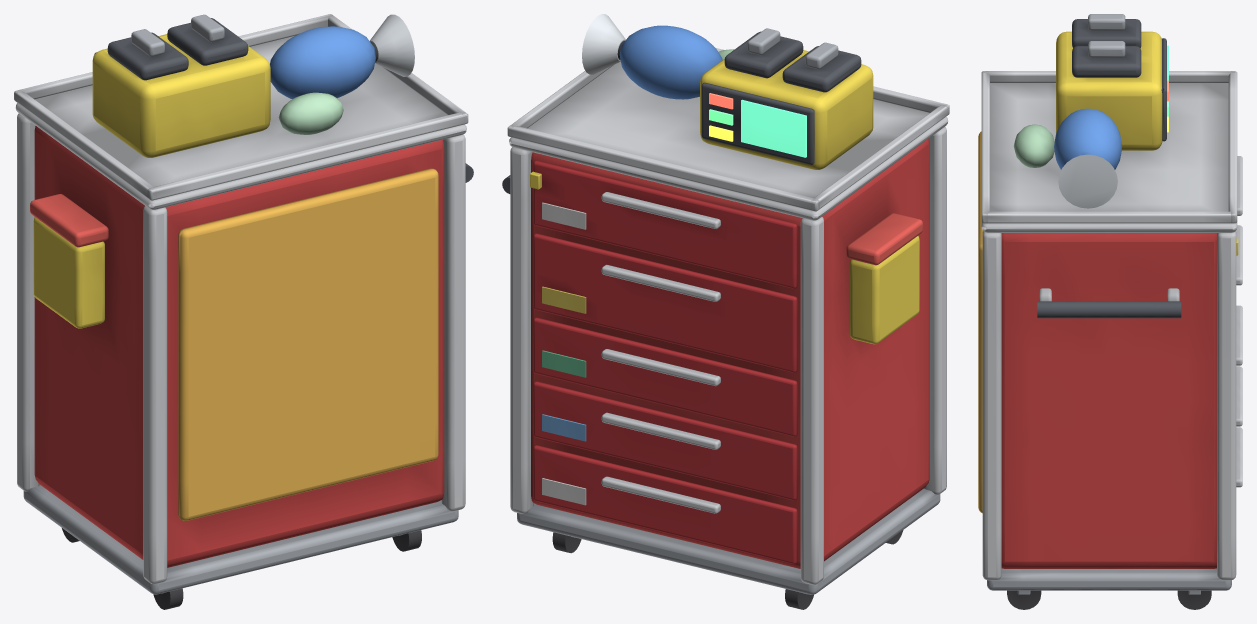
Rendered from crash_cart.glb.
The picture shows the model from 3 angles, left to right: view 1: azimuth 30°, elevation 25°; view 2: azimuth 150°, elevation 25°; view 3: azimuth 270°, elevation 25°; orthographic projection. The views are drawn at different scales.
Visible parts, largest first — view 1: cpr_board, body, tray, defib, chassis, corner_-15_11, corner_15_11, corner_-15_-11, bvm_bag, sharps, lip_-16_11.2, sharps_lid (+9 smaller); view 2: body, tray, drawer_3, drawer_4, drawer_0, drawer_1, drawer_2, chassis, corner_-15_-11, corner_15_-11, defib, corner_-15_11 (+24 smaller); view 3: body, tray, defib, corner_15_11, corner_15_-11, chassis, lip_15.2_-12, bvm_bag, push_bar, bvm_mask, paddle_-3.5, cpr_board (+14 smaller).
Boxes of the visible parts, x1=… form: cpr_board: x1=178, y1=168, x2=438, y2=520; body: x1=34, y1=126, x2=444, y2=567; tray: x1=15, y1=36, x2=466, y2=209; defib: x1=92, y1=34, x2=270, y2=157; chassis: x1=23, y1=485, x2=458, y2=594; corner_-15_11: x1=143, y1=206, x2=167, y2=584; corner_15_11: x1=441, y1=134, x2=465, y2=511; corner_-15_-11: x1=17, y1=113, x2=39, y2=491; bvm_bag: x1=270, y1=26, x2=376, y2=98; sharps: x1=33, y1=217, x2=104, y2=328; lip_-16_11.2: x1=147, y1=111, x2=468, y2=200; sharps_lid: x1=30, y1=194, x2=108, y2=247; body: x1=531, y1=138, x2=929, y2=568; tray: x1=509, y1=61, x2=948, y2=220; drawer_3: x1=533, y1=233, x2=797, y2=372; drawer_4: x1=533, y1=160, x2=797, y2=288; drawer_0: x1=533, y1=445, x2=797, y2=564; drawer_1: x1=533, y1=381, x2=797, y2=500; drawer_2: x1=533, y1=317, x2=797, y2=436; chassis: x1=517, y1=488, x2=940, y2=594; corner_-15_-11: x1=800, y1=217, x2=823, y2=584; corner_15_-11: x1=510, y1=147, x2=533, y2=513; defib: x1=700, y1=50, x2=873, y2=169; corner_-15_11: x1=924, y1=127, x2=946, y2=494; body: x1=1001, y1=233, x2=1216, y2=568; tray: x1=981, y1=83, x2=1237, y2=232; defib: x1=1056, y1=31, x2=1162, y2=150; corner_15_11: x1=982, y1=231, x2=1001, y2=580; corner_15_-11: x1=1217, y1=231, x2=1236, y2=580; chassis: x1=987, y1=568, x2=1231, y2=590; lip_15.2_-12: x1=983, y1=211, x2=1235, y2=223; bvm_bag: x1=1054, y1=108, x2=1121, y2=169; push_bar: x1=1037, y1=301, x2=1181, y2=318; bvm_mask: x1=1058, y1=154, x2=1117, y2=208; paddle_-3.5: x1=1072, y1=46, x2=1141, y2=77; cpr_board: x1=978, y1=131, x2=982, y2=513.
Size of the model in its own units: 37.9 by 51.1 by 24.8.
